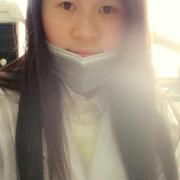WRONG: (43, 2, 128, 87)
